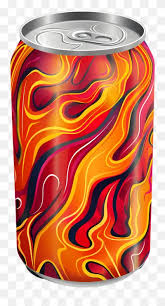can: (11, 10, 153, 287)
